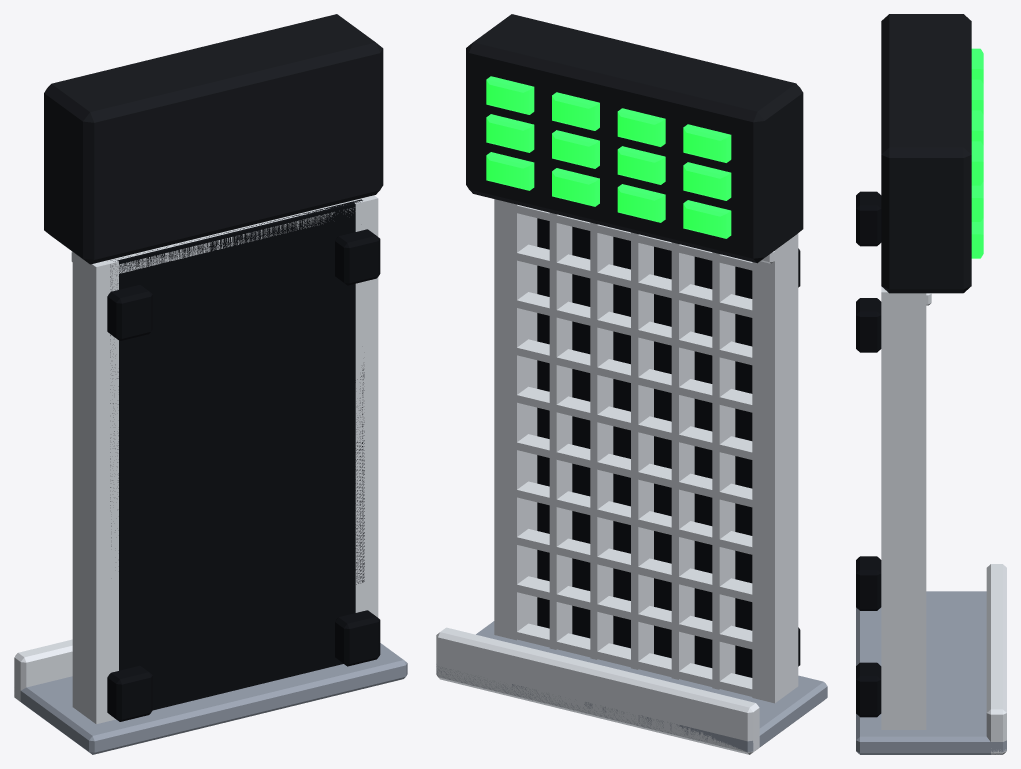
The model's file is ladder_chrome.glb.
3 views of the same model, side by side, from view 1: azimuth 30°, elevation 25°; view 2: azimuth 150°, elevation 25°; view 3: azimuth 270°, elevation 25° (orthographic). The views are drawn at different scales.
Parts seen in each view (by area): view 1: ladder_chrome_MID_deco_trim, ladder_chrome_TOP_deco_body, ladder_chrome_TOP_deco_trim, ladder_chrome_MID_chrome, ladder_chrome_BOT_deco_trim, ladder_chrome_BOT_deco_checker, ladder_chrome_TOP_chrome, ladder_chrome_BOT_chrome; view 2: ladder_chrome_MID_chrome, ladder_chrome_TOP_deco_body, ladder_chrome_BOT_chrome, ladder_chrome_TOP_chrome, ladder_chrome_MID_deco_trim, ladder_chrome_TOP_deco_led, ladder_chrome_BOT_deco_trim, ladder_chrome_BOT_deco_checker, ladder_chrome_TOP_deco_trim; view 3: ladder_chrome_TOP_deco_body, ladder_chrome_BOT_deco_checker, ladder_chrome_MID_chrome, ladder_chrome_BOT_chrome, ladder_chrome_TOP_chrome, ladder_chrome_BOT_deco_trim, ladder_chrome_TOP_deco_trim, ladder_chrome_TOP_deco_led.
Part boxes in pixels (left/top/right/bottom): ladder_chrome_MID_deco_trim: left=110, top=299, right=364, bottom=642; ladder_chrome_TOP_deco_body: left=44, top=14, right=383, bottom=264; ladder_chrome_TOP_deco_trim: left=107, top=199, right=380, bottom=357; ladder_chrome_MID_chrome: left=72, top=293, right=378, bottom=647; ladder_chrome_BOT_deco_trim: left=107, top=585, right=380, bottom=721; ladder_chrome_BOT_deco_checker: left=14, top=643, right=407, bottom=754; ladder_chrome_TOP_chrome: left=71, top=195, right=378, bottom=362; ladder_chrome_BOT_chrome: left=14, top=579, right=378, bottom=724; ladder_chrome_MID_chrome: left=494, top=266, right=798, bottom=627; ladder_chrome_TOP_deco_body: left=466, top=14, right=803, bottom=263; ladder_chrome_BOT_chrome: left=436, top=550, right=798, bottom=754; ladder_chrome_TOP_chrome: left=494, top=199, right=798, bottom=343; ladder_chrome_MID_deco_trim: left=537, top=265, right=752, bottom=583; ladder_chrome_TOP_deco_led: left=486, top=76, right=731, bottom=238; ladder_chrome_BOT_deco_trim: left=537, top=550, right=800, bottom=677; ladder_chrome_BOT_deco_checker: left=436, top=621, right=827, bottom=752; ladder_chrome_TOP_deco_trim: left=537, top=218, right=800, bottom=298; ladder_chrome_TOP_deco_body: left=881, top=14, right=971, bottom=293; ladder_chrome_BOT_deco_checker: left=856, top=591, right=1006, bottom=754; ladder_chrome_MID_chrome: left=881, top=383, right=926, bottom=656; ladder_chrome_BOT_chrome: left=881, top=564, right=1006, bottom=754; ladder_chrome_TOP_chrome: left=881, top=286, right=931, bottom=383; ladder_chrome_BOT_deco_trim: left=856, top=556, right=881, bottom=717; ladder_chrome_TOP_deco_trim: left=856, top=191, right=881, bottom=352; ladder_chrome_TOP_deco_led: left=971, top=48, right=983, bottom=258.
Size of the model in its own units: 0.35 by 0.66 by 0.15.
